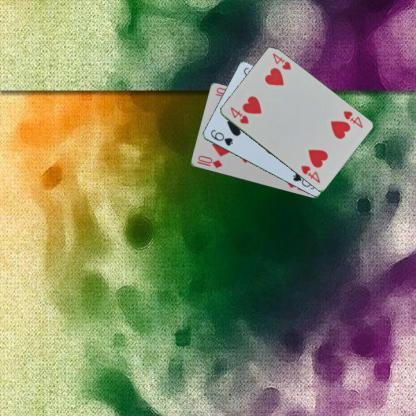10d: (194, 153, 224, 170)
4h: (340, 107, 364, 130), (227, 104, 250, 125)
6s: (208, 127, 234, 147)
